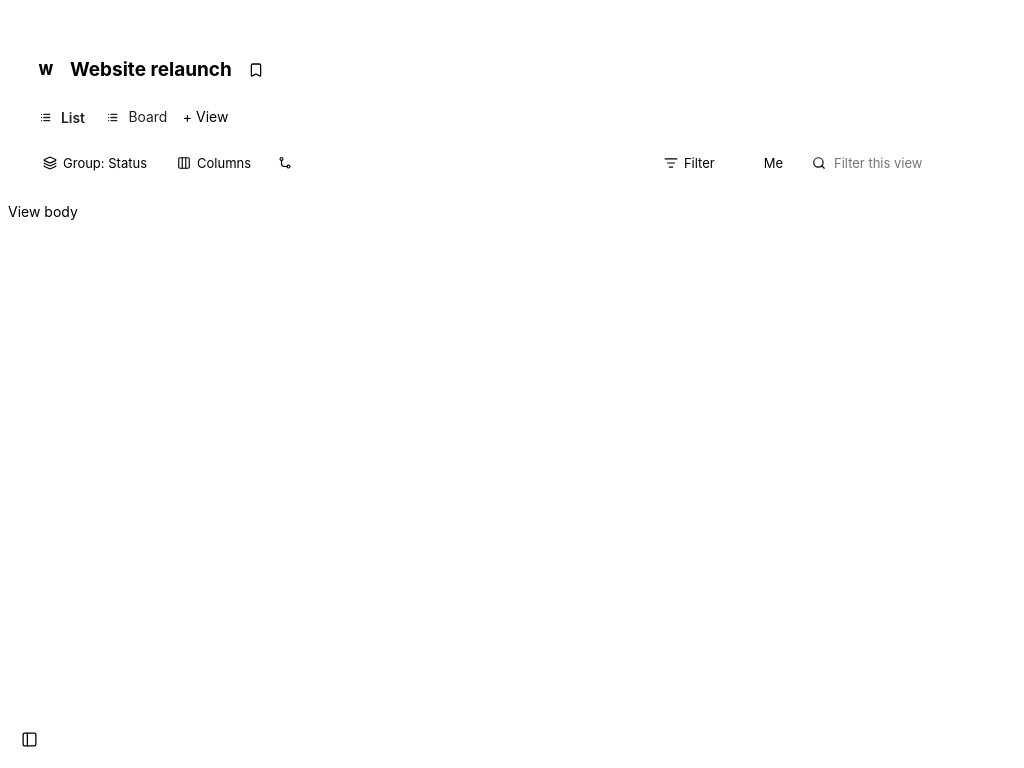
Scenario: Window › unsaved view drafts › stay when the same place is announced again
Click the button "Me" at point(763, 163), box [732,148,794,178]
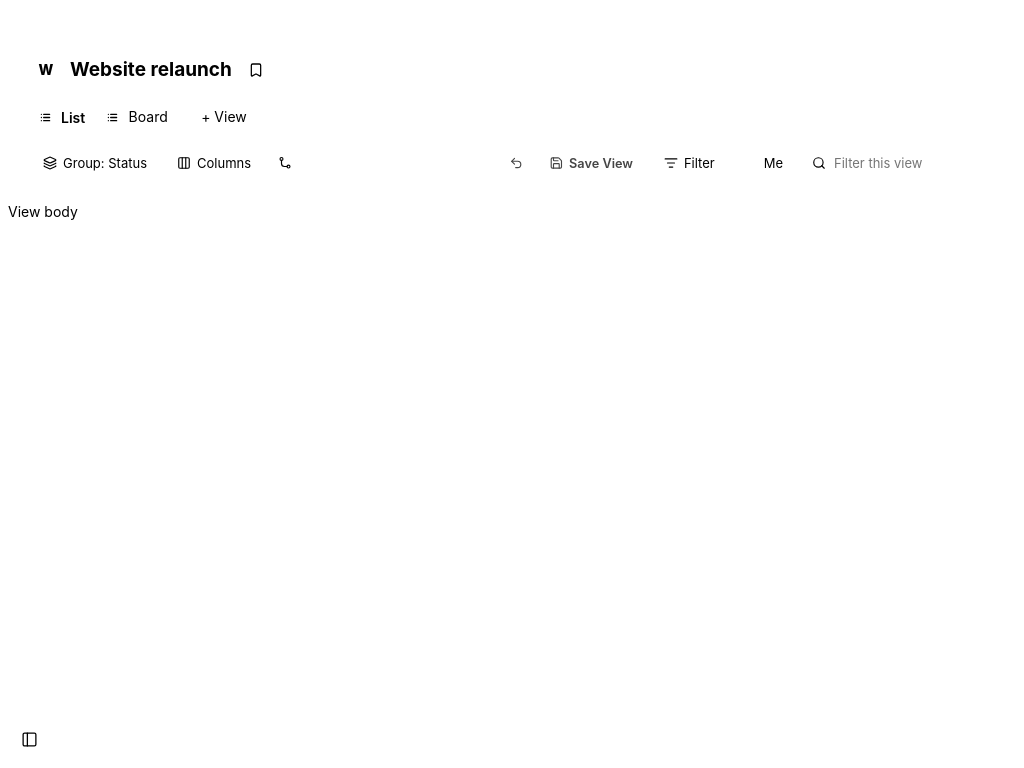
Result: the button "Save View" is shown at [538,148,644,178]
